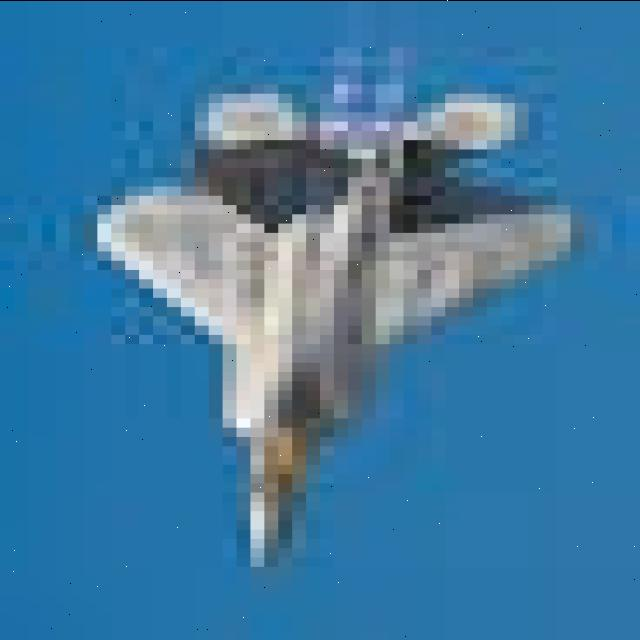F22: (100, 1, 624, 588)
